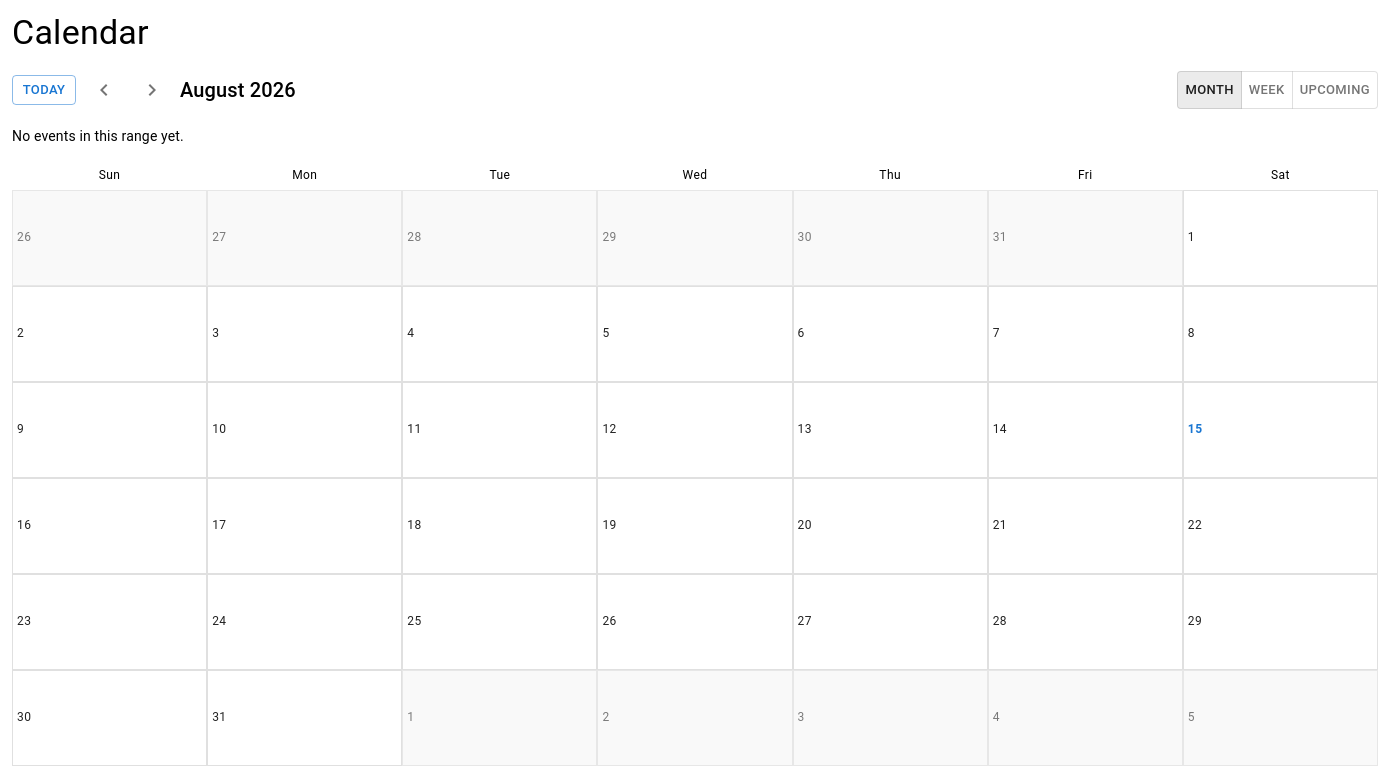
Test: CalendarPage › previous, next, and today controls change the visible range label
Expected: the heading "August 2026" is shown, [180,74,296,106]
Click the button named "Next month" at (152, 90), box [132,70,172,110]
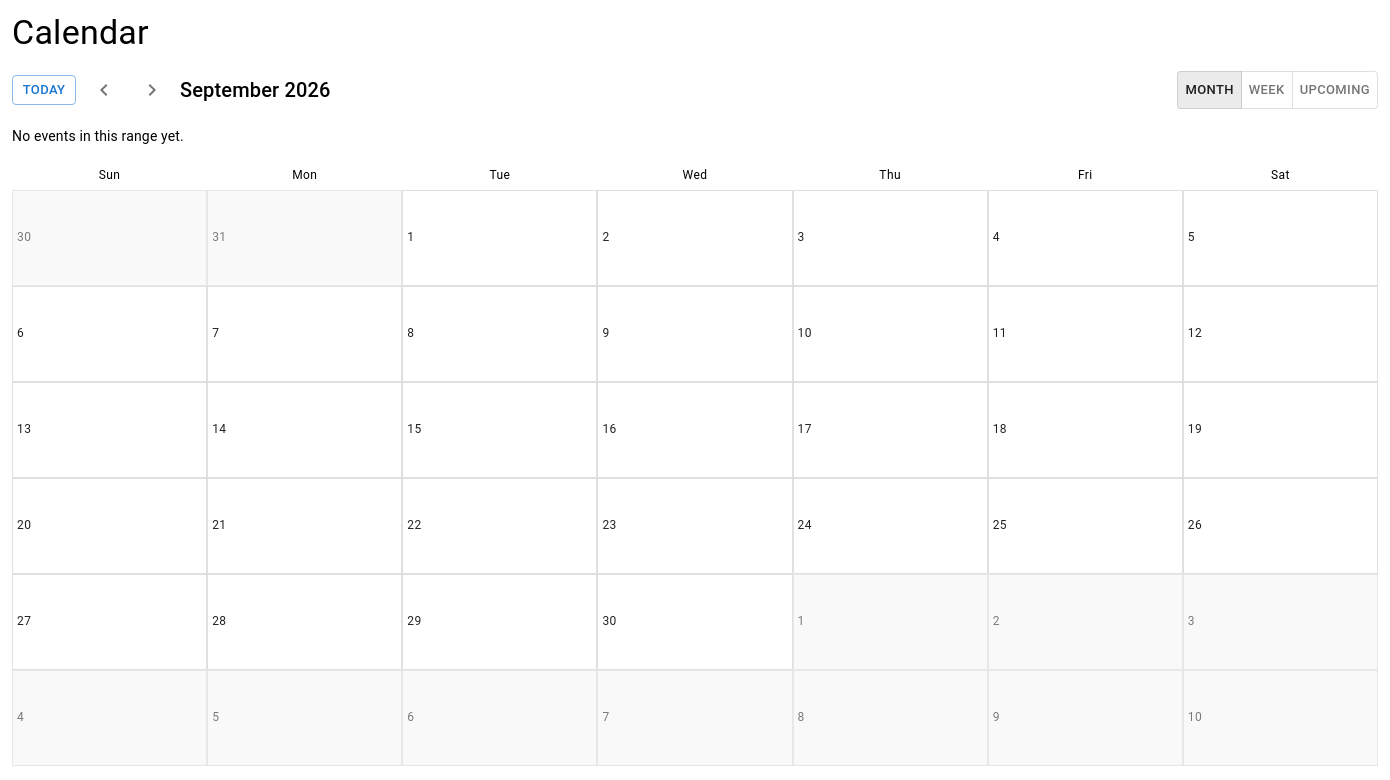
Result: the heading "September 2026" is shown at [180,74,330,106]
Click the button "Today" at (44, 90), box [12,75,76,105]
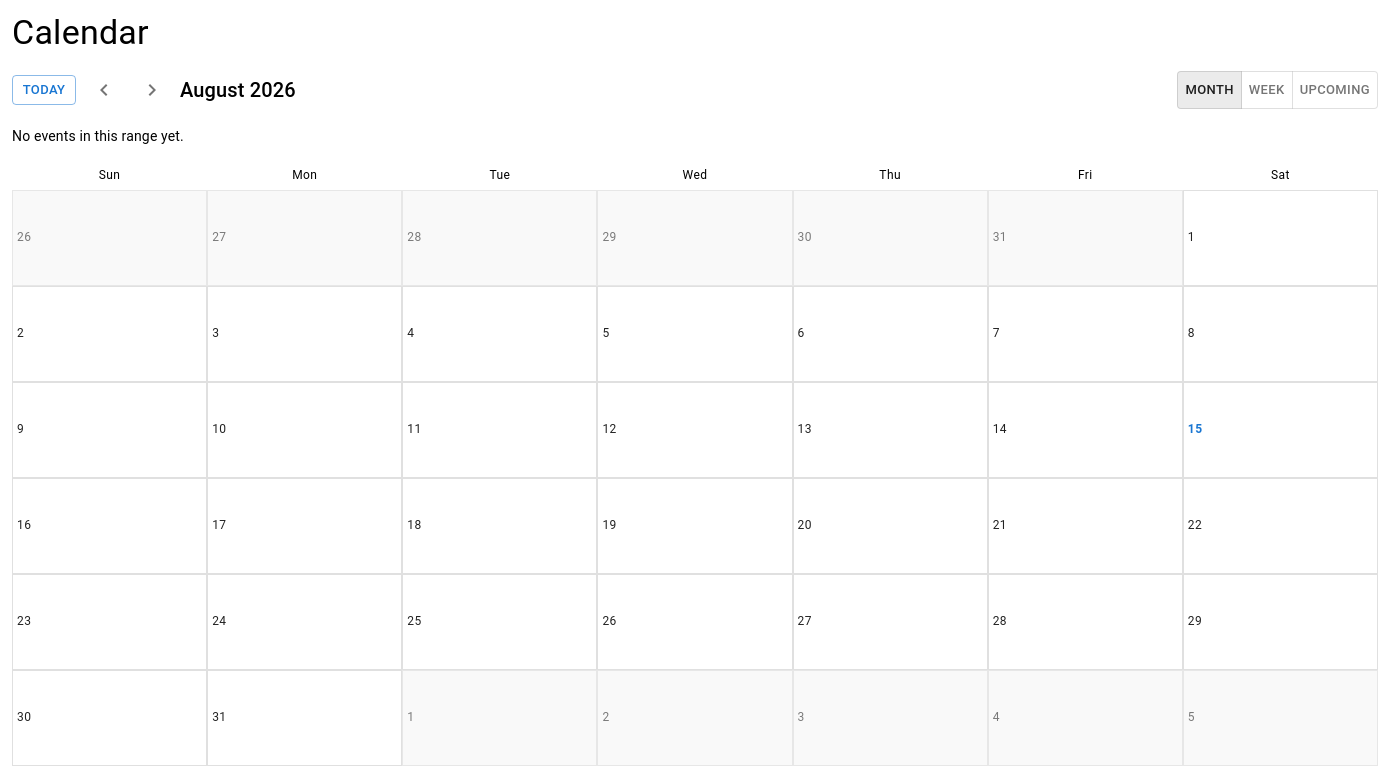
Result: the heading "August 2026" is shown at [180,74,296,106]
